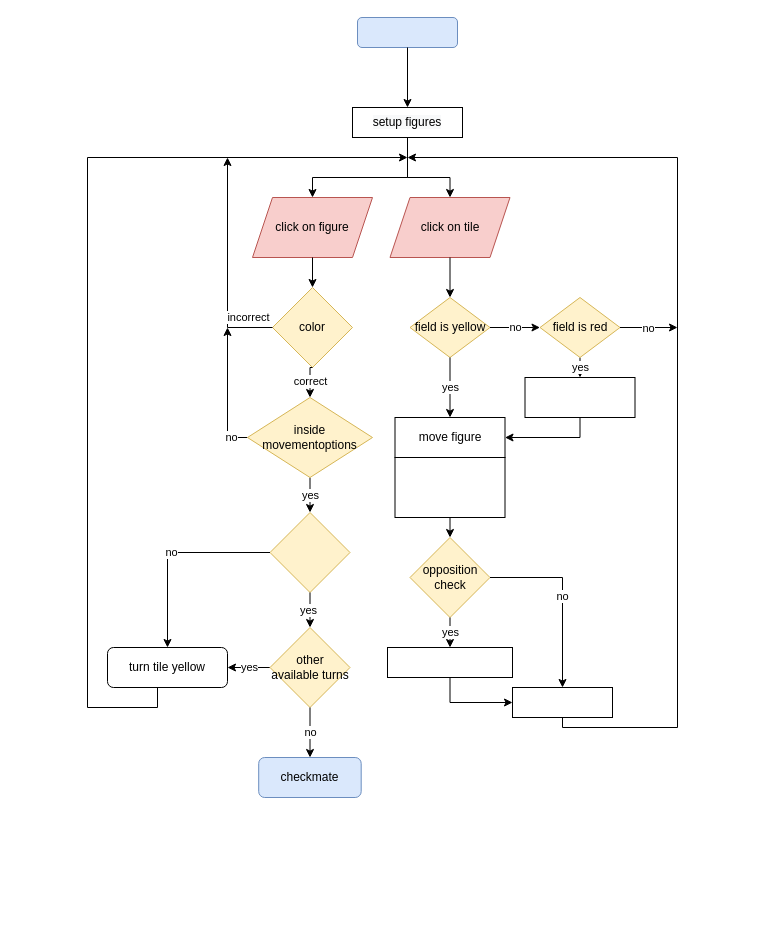
This 774x945 diagram has some shape labels left out. The centre of each missing label's shape, as x and y in pixels:
"add turn" goes at (562,702).
"all tiles normal color update field" goes at (449,487).
"kill opponent" goes at (579,397).
"start" goes at (407,32).
"turn king tile violet" goes at (449,662).
"will own king be check" goes at (309,552).
